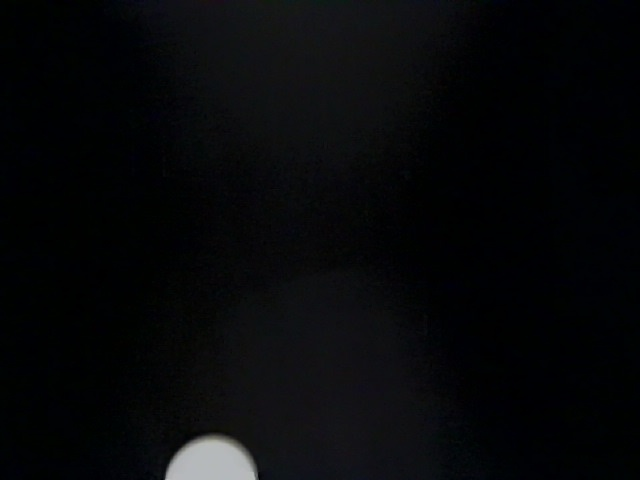YHLJ: (351, 296, 419, 400)
